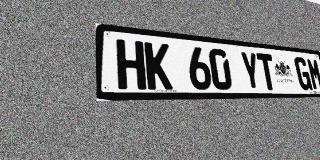0: (208, 48, 233, 90)
6: (187, 46, 213, 90)
G: (293, 56, 313, 90)
H: (116, 39, 146, 90)
K: (144, 42, 173, 90)
M: (306, 58, 320, 90)
T: (256, 53, 278, 90)
Y: (239, 51, 262, 90)
